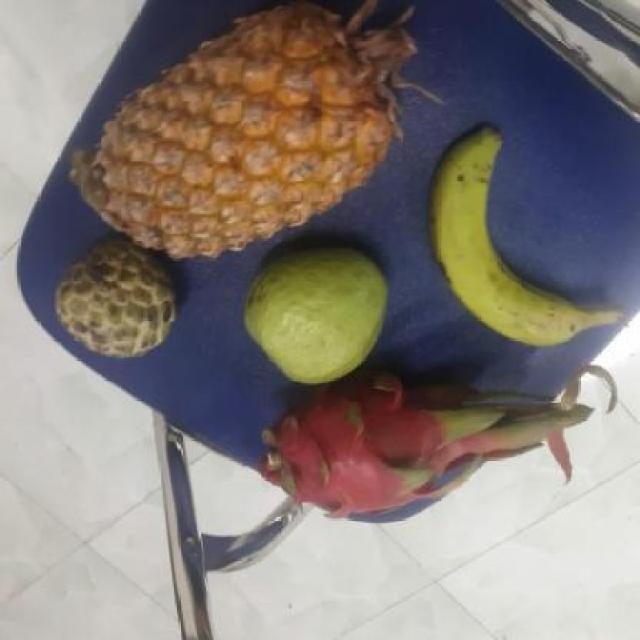banana: (430, 128, 602, 346)
dragon fruit: (262, 370, 503, 528)
guava: (238, 245, 392, 386)
pineapple: (90, 11, 412, 251)
sugar apple: (56, 238, 186, 357)
